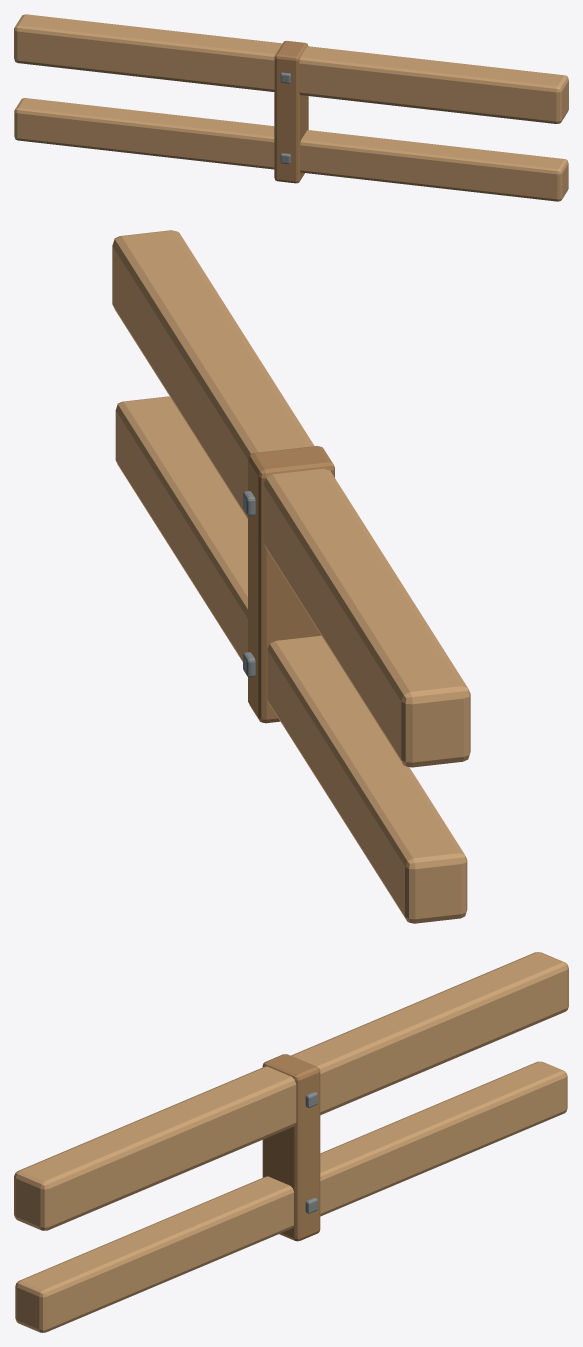
File: Fence_Connection_135.glb
The picture shows the model from 3 angles, top to bottom: view 1: azimuth 30°, elevation 25°; view 2: azimuth 150°, elevation 25°; view 3: azimuth 270°, elevation 25°; orthographic projection. The views are drawn at different scales.
Visible parts, largest first — view 1: Fence_Connection_3m; view 2: Fence_Connection_3m; view 3: Fence_Connection_3m.
Part boxes in pixels (bbox=[...]): Fence_Connection_3m: bbox=[14, 14, 568, 201]; Fence_Connection_3m: bbox=[112, 230, 470, 923]; Fence_Connection_3m: bbox=[14, 952, 568, 1332].
Size of the model in its own units: 2.23 by 0.74 by 2.23.
